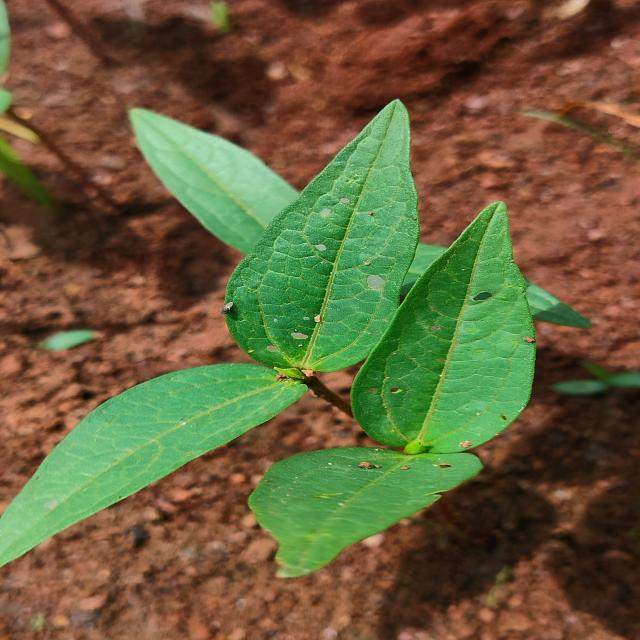Black gram_healthy: (120, 101, 401, 386), (0, 363, 335, 571), (345, 195, 542, 466), (225, 91, 412, 368), (258, 445, 478, 567)
